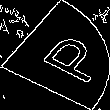P_NW: (12, 26, 98, 84)
